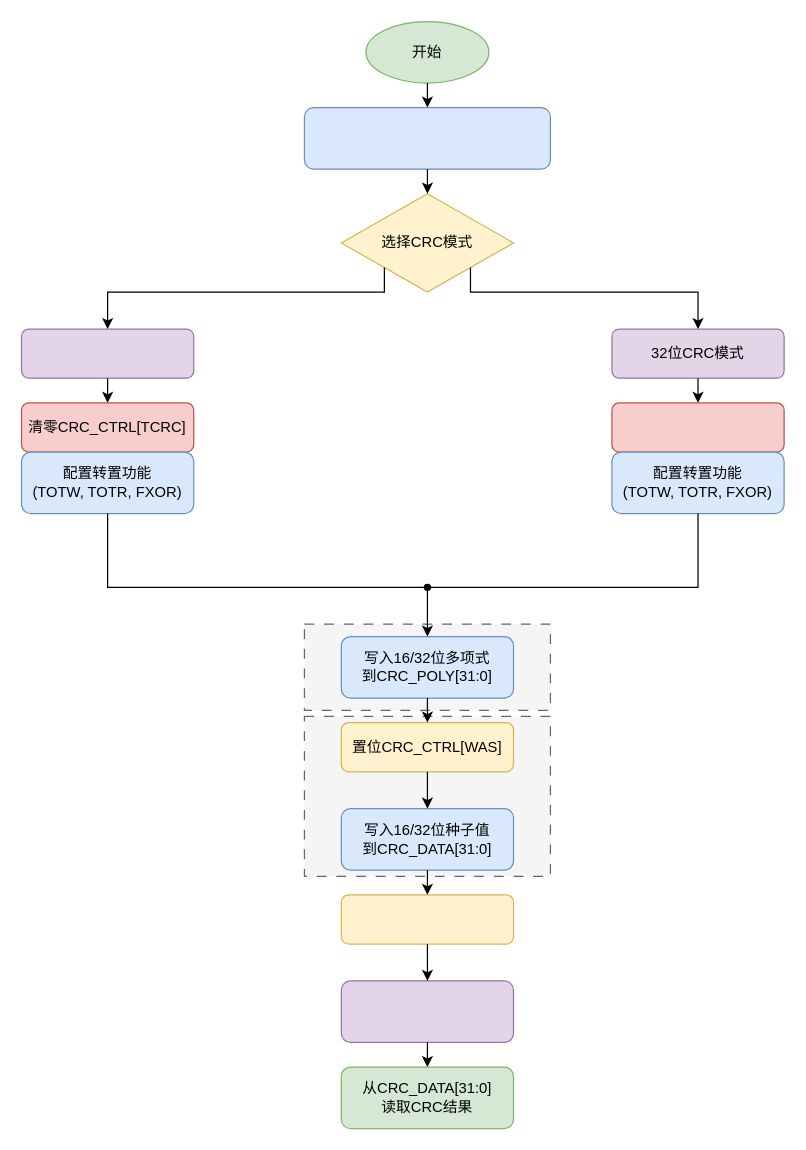
This 806x1150 diagram has some shape labels left out. The shapes that lost their labels are listed below. From the top down, each one's centre as x and y in pixels, then its label:
At point (426, 137): "配置CRC_CTRL控制寄存器".
At point (107, 353): "16位CRC模式".
At point (697, 427): "置位CRC_CTRL[TCRC]".
At point (427, 919): "复位CRC_CTRL[WAS]".
At point (427, 1011): "硬件 写入校验数据 到CRC_DATA[31:0]".
